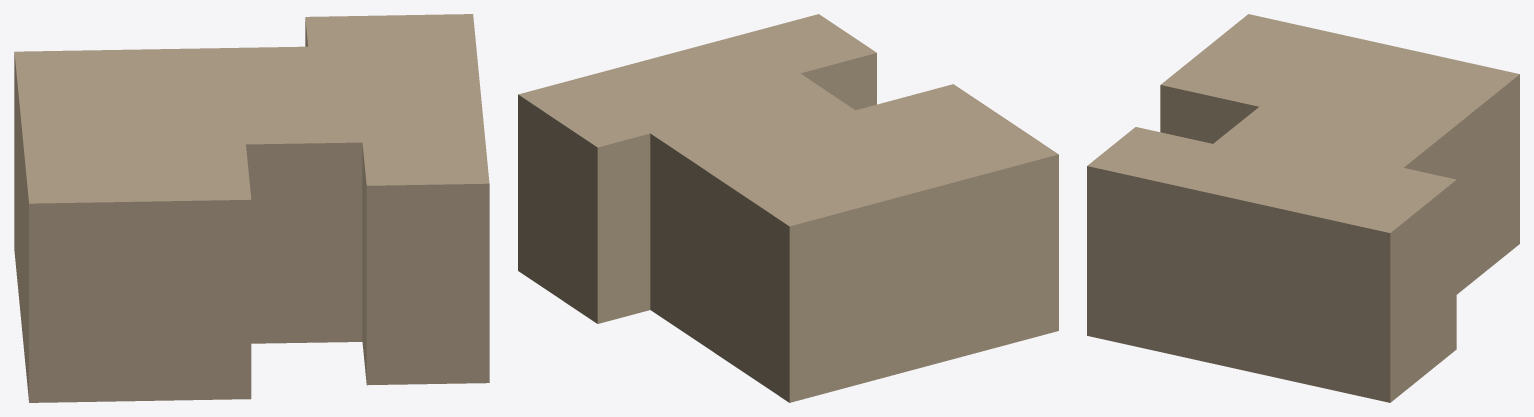
File: bld_101524522.dae
3 views of the same model, side by side, from view 1: azimuth 30°, elevation 25°; view 2: azimuth 150°, elevation 25°; view 3: azimuth 270°, elevation 25° (orthographic). The views are drawn at different scales.
Parts seen in each view (by area): view 1: bld_101524522; view 2: bld_101524522; view 3: bld_101524522.
Boxes of the visible parts, <box> form: bld_101524522: <box>14,14,489,402</box>; bld_101524522: <box>518,14,1058,402</box>; bld_101524522: <box>1087,14,1519,402</box>.
Bounding box in the file's own units: 22.14 × 18.48 × 8.
